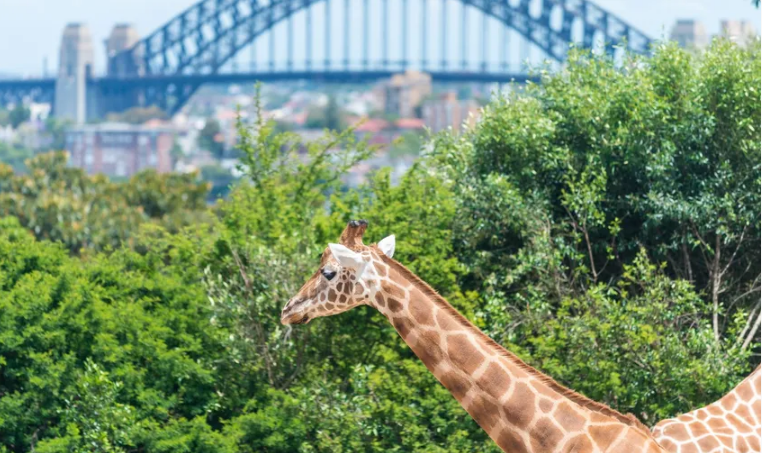giraffe: (270, 214, 664, 453)
